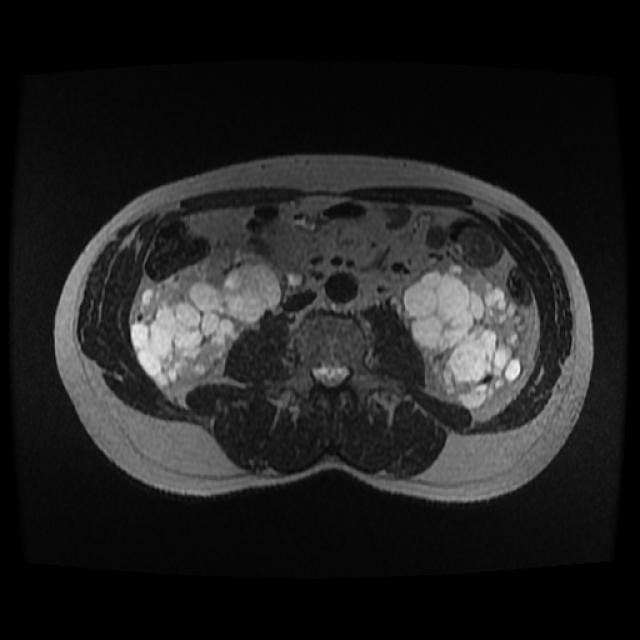sag: (130, 241, 291, 396)
sol: (396, 258, 532, 411)
